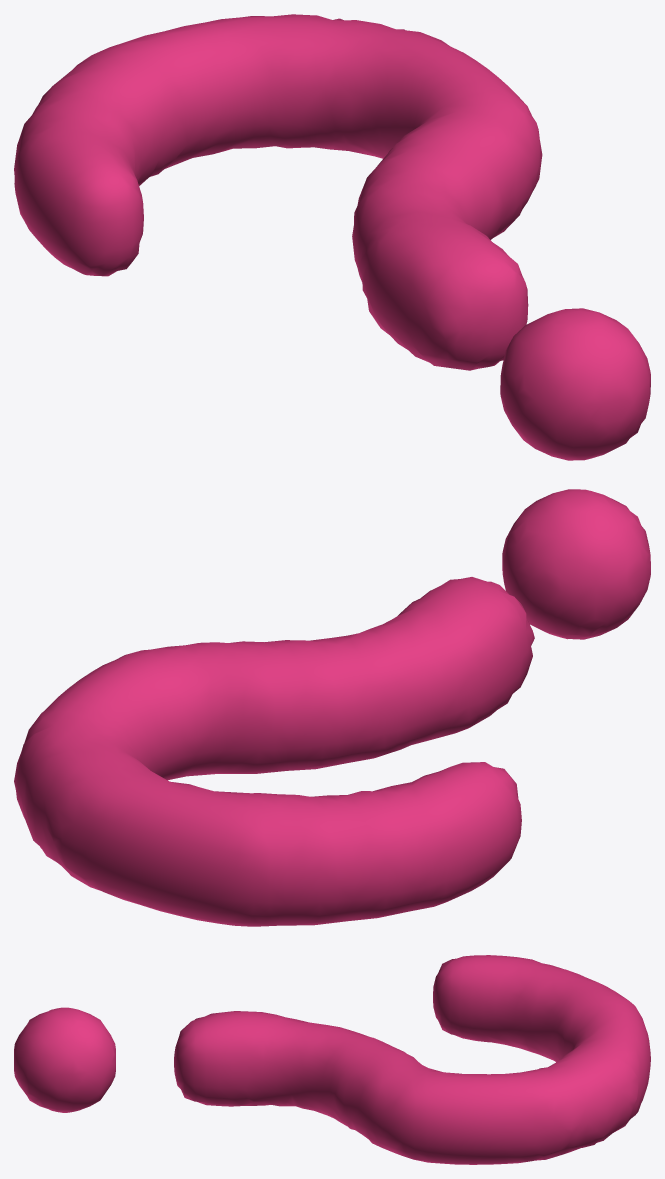
The model's file is questionmarkBig.glb.
3 renders of one model, top to bottom at view 1: azimuth 30°, elevation 25°; view 2: azimuth 150°, elevation 25°; view 3: azimuth 270°, elevation 25°, orthographic. The views are drawn at different scales.
Visible parts, largest first — view 1: dot; view 2: dot; view 3: dot.
Part boxes in pixels (x1,y1,x2,y2): dot: [14, 14, 650, 460]; dot: [14, 489, 650, 926]; dot: [14, 955, 650, 1164].
Bounding box in the file's own units: 7.09 × 1.97 × 12.32.
